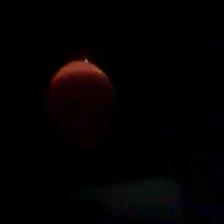fertile: (43, 57, 116, 159)
